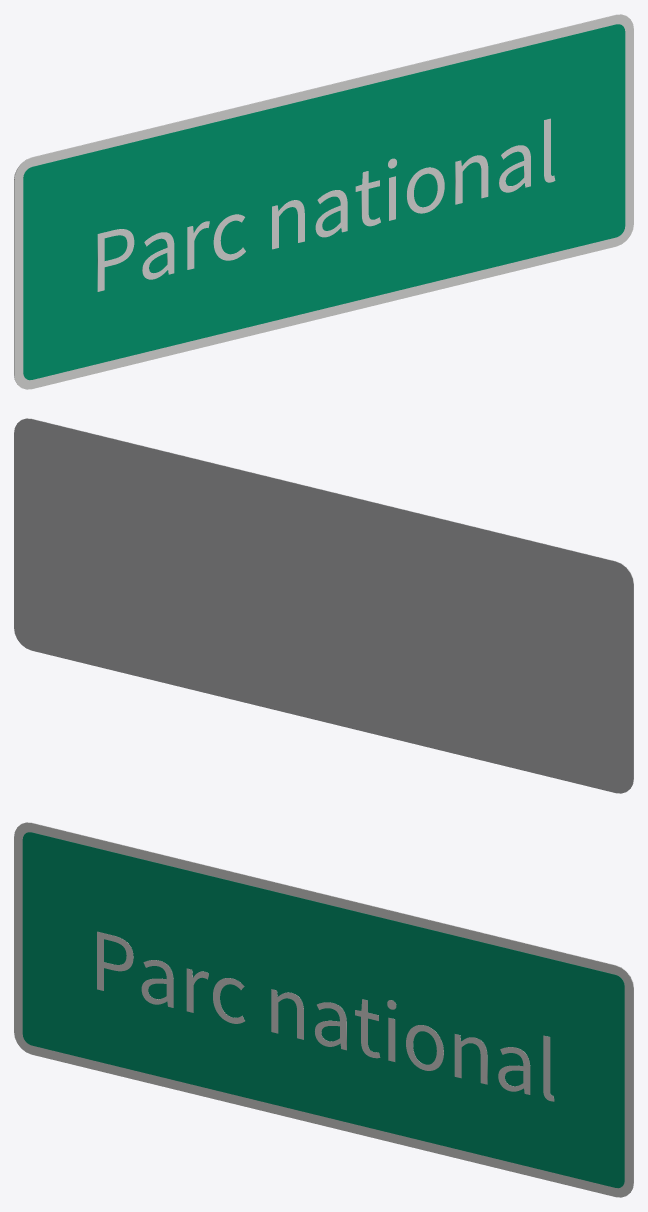
3 views of the same model, one above another, from view 1: azimuth 30°, elevation 25°; view 2: azimuth 150°, elevation 25°; view 3: azimuth 330°, elevation 25° (orthographic).
Visible parts, largest first — view 1: E33a_fond01, E33a_cadre00, E33a_txt02, E33a_dos; view 2: E33a_dos; view 3: E33a_fond01, E33a_cadre00, E33a_txt02, E33a_dos.
Boxes of the visible parts, <box> form: E33a_fond01: <box>23,24,625,380</box>; E33a_cadre00: <box>14,14,633,389</box>; E33a_txt02: <box>97,118,555,291</box>; E33a_dos: <box>14,14,622,384</box>; E33a_dos: <box>14,418,633,793</box>; E33a_fond01: <box>22,832,624,1188</box>; E33a_cadre00: <box>14,822,633,1197</box>; E33a_txt02: <box>97,931,554,1101</box>; E33a_dos: <box>25,822,633,1192</box>.
Size of the model in its own units: 1.4 by 0.5 by 0.0025.
